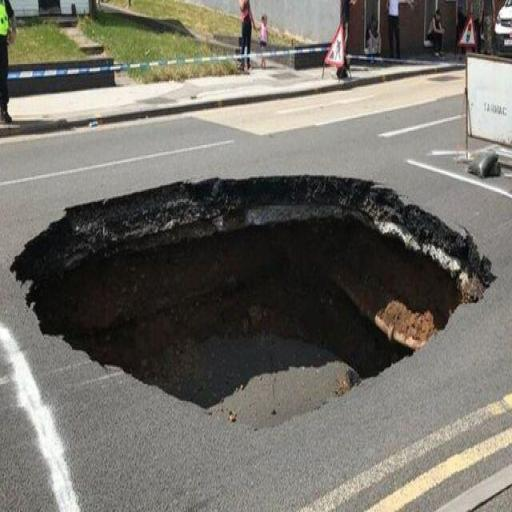Concentric_Crack: (12, 176, 493, 426)
